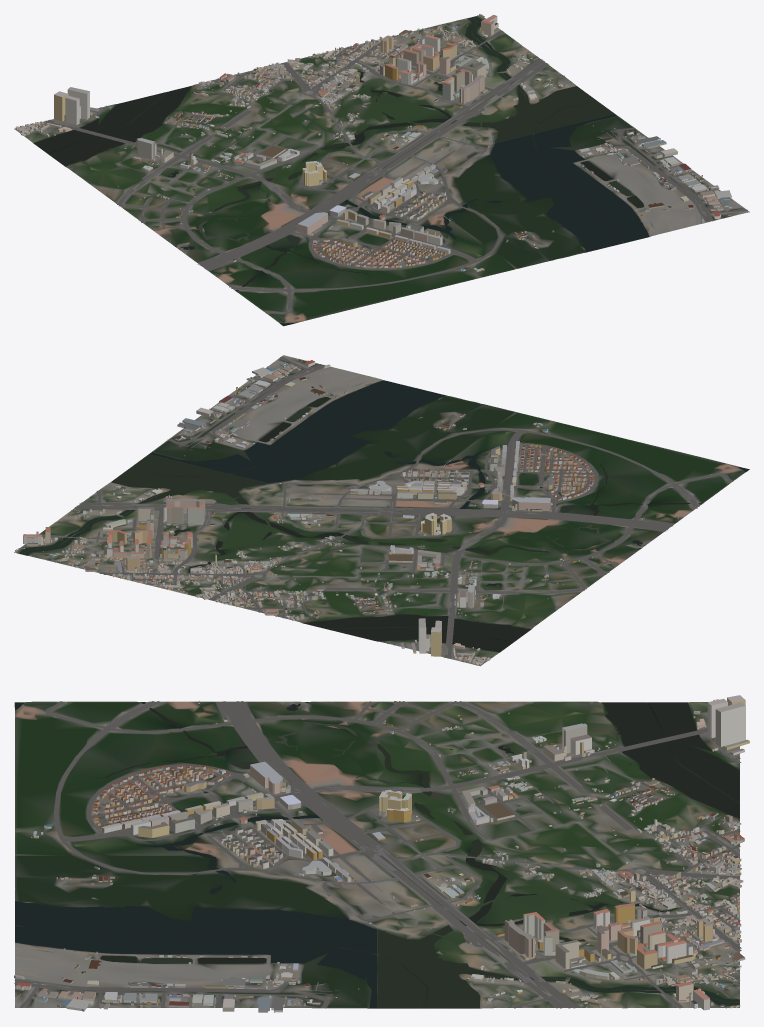
The picture shows the model from 3 angles, top to bottom: view 1: azimuth 30°, elevation 25°; view 2: azimuth 150°, elevation 25°; view 3: azimuth 270°, elevation 25°; orthographic projection. The views are drawn at different scales.
Visible parts, largest first — view 1: ground, buildings, water, roads; view 2: ground, buildings, water, roads; view 3: ground, buildings, water, roads.
Boxes of the visible parts, x1,y1,x2,y2 form: ground: [14, 15, 749, 326]; buildings: [15, 14, 733, 292]; water: [33, 16, 671, 325]; roads: [16, 15, 747, 313]; ground: [14, 355, 749, 666]; buildings: [15, 359, 682, 665]; water: [19, 380, 749, 652]; roads: [16, 356, 733, 664]; ground: [14, 701, 739, 1008]; buildings: [14, 695, 749, 1012]; water: [15, 702, 739, 1008]; roads: [14, 701, 741, 1008].
Size of the model in its own units: 2852 by 154 by 2843.
